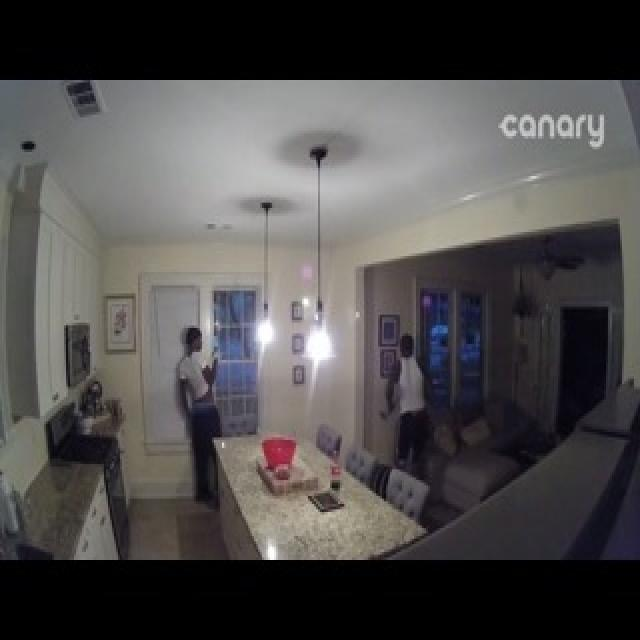thief: (166, 316, 233, 532)
